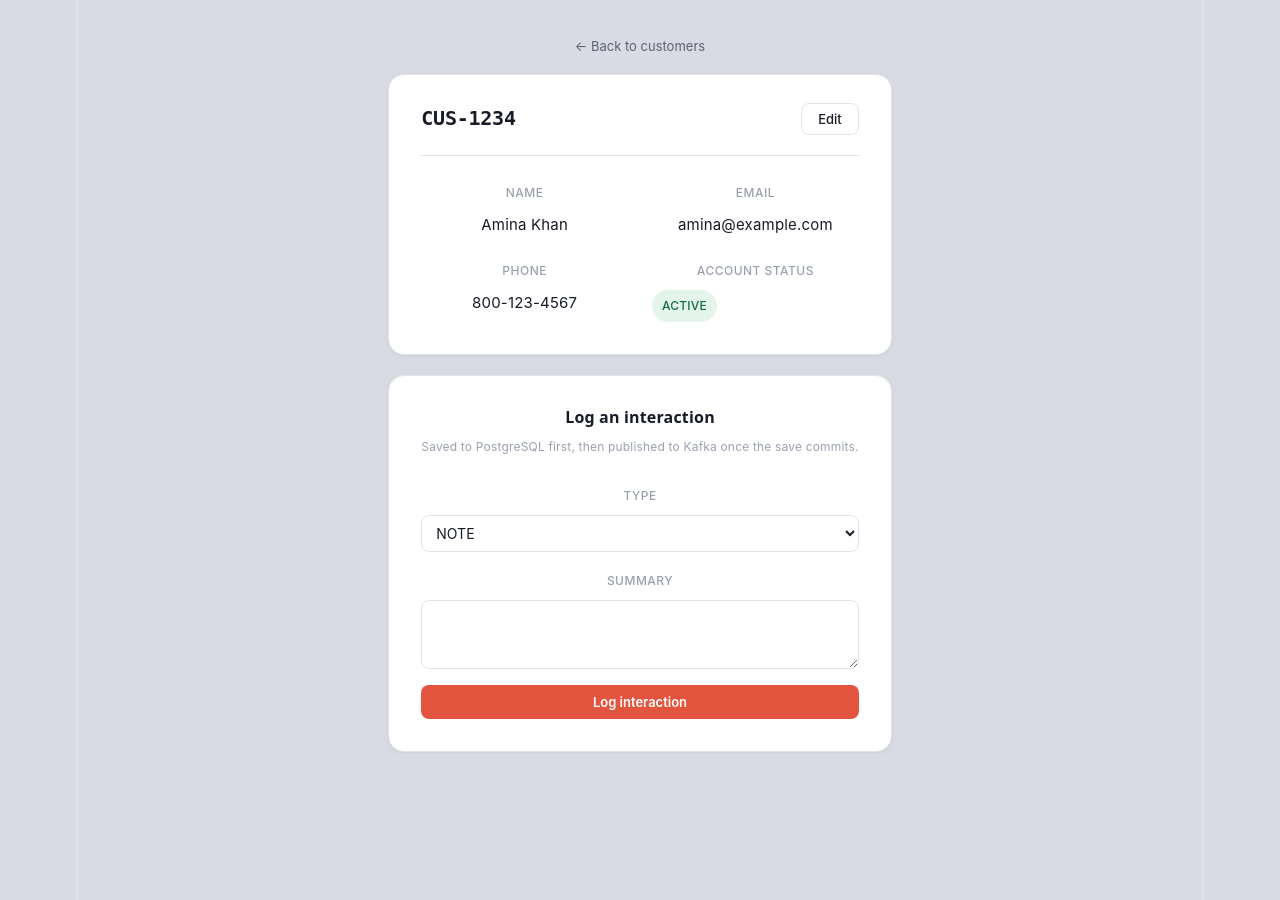
Scenario: Profile › shows the Error message when saving fails
Step 1. Click the button "Edit" → [830, 119], box top-left (801, 103), bottom-right (859, 135)
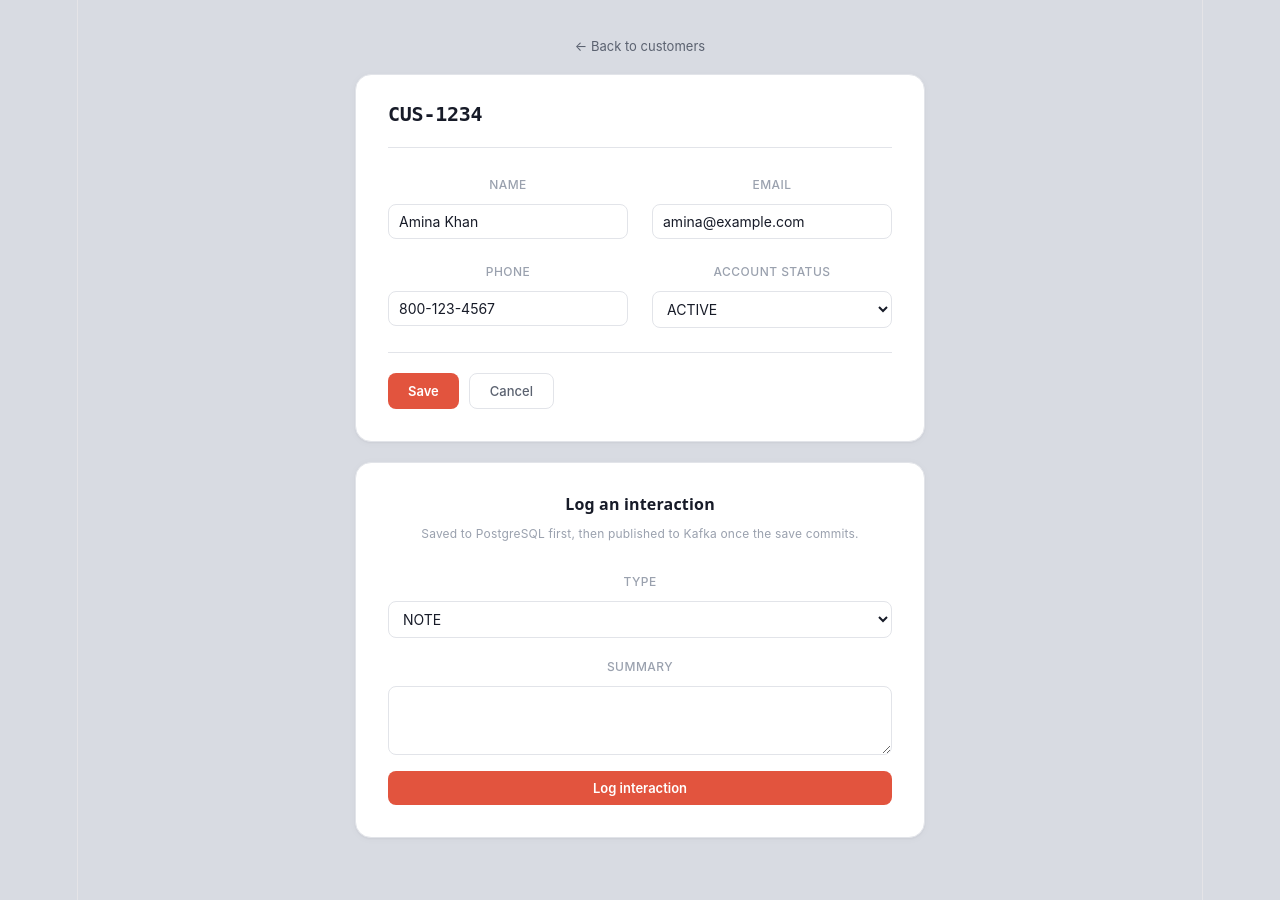
Step 2. Click the button "Save" → [423, 391], box top-left (388, 373), bottom-right (459, 409)
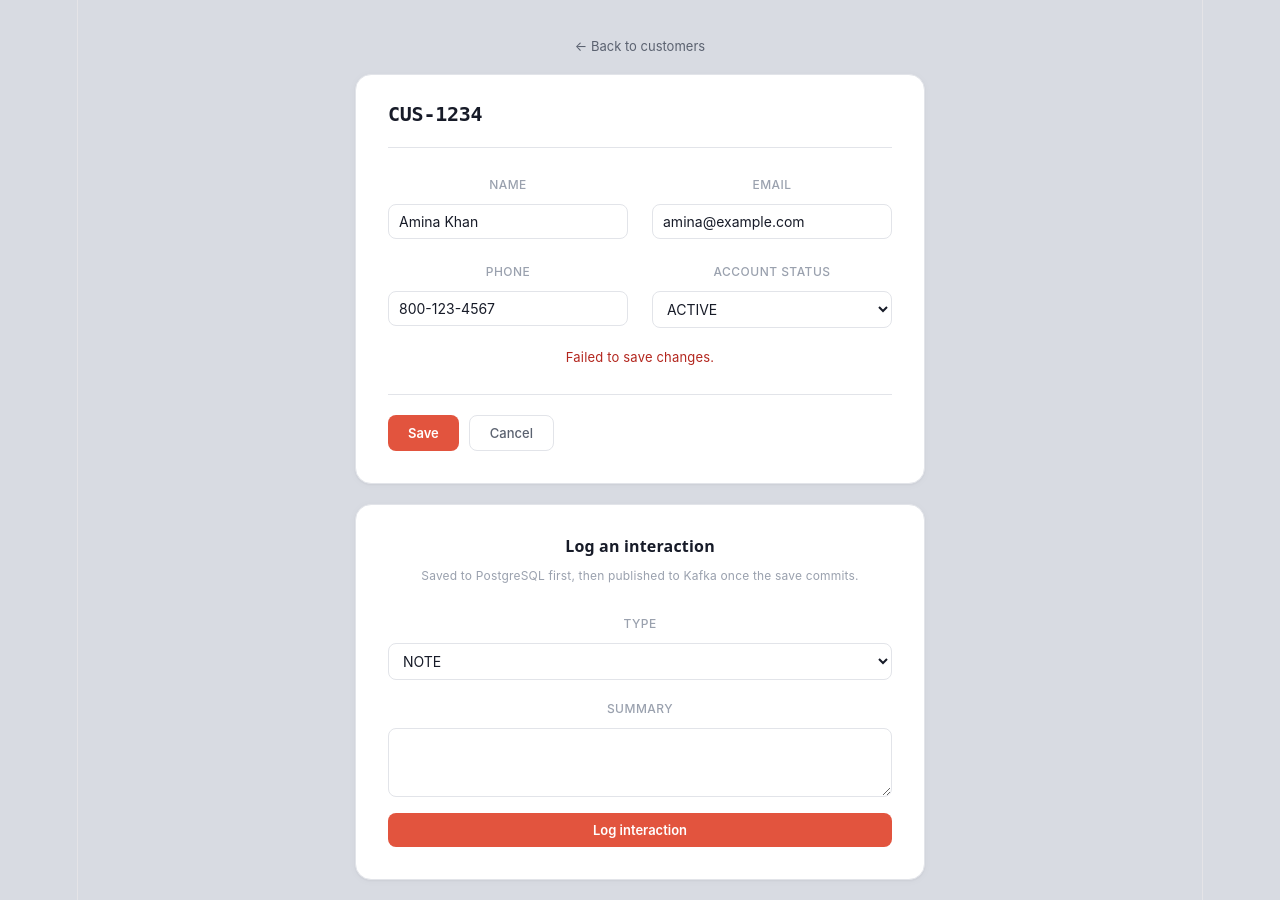
Check: the text "Failed to save changes." is shown, box top-left (566, 349), bottom-right (714, 365)
